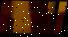scratch: (5, 0, 60, 36)
